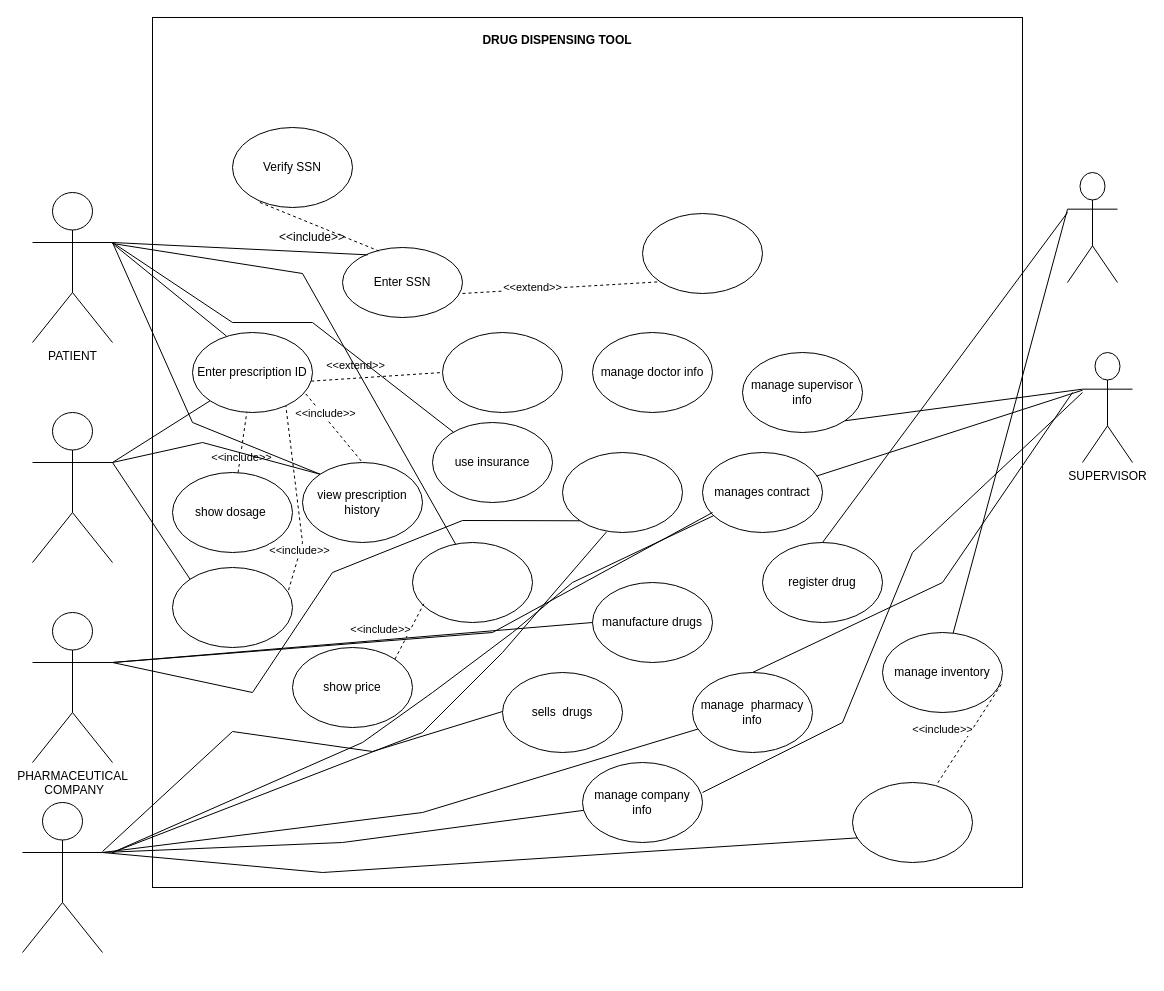
Image size: 1164x991. Some labels were removed from this diagram. Here are the shapes that lost their labels. From the top down, the box of each, then its label:
(1066, 172, 1118, 282): PHARAMCIST
(642, 212, 762, 294): display patient login error
(442, 332, 562, 412): display prescription idefication error
(32, 412, 112, 562): DOCTOR
(562, 452, 682, 532): contract drugs
(412, 542, 532, 622): buy drugs
(172, 566, 292, 648): give prescription
(852, 782, 972, 862): refill drug
(22, 802, 102, 952): PHARMACY
